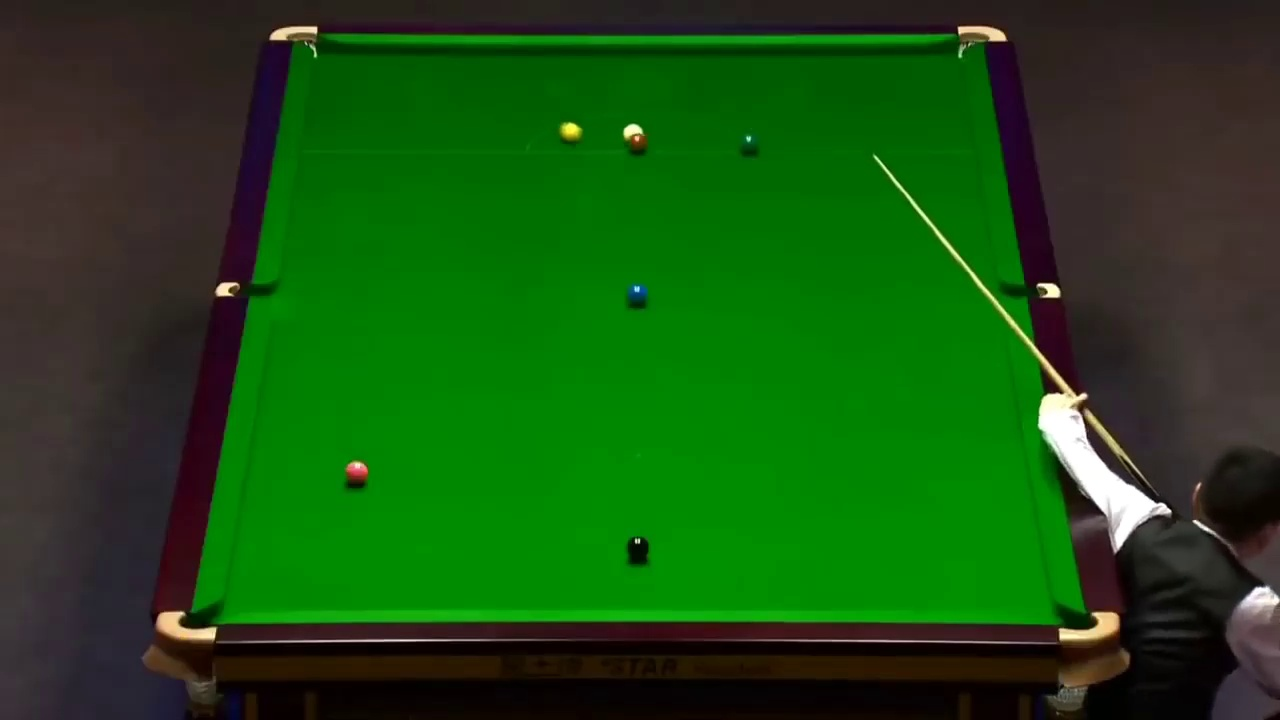ball: (622, 535, 650, 561), (624, 284, 648, 308), (343, 461, 365, 485), (740, 134, 760, 153), (630, 134, 646, 152)
